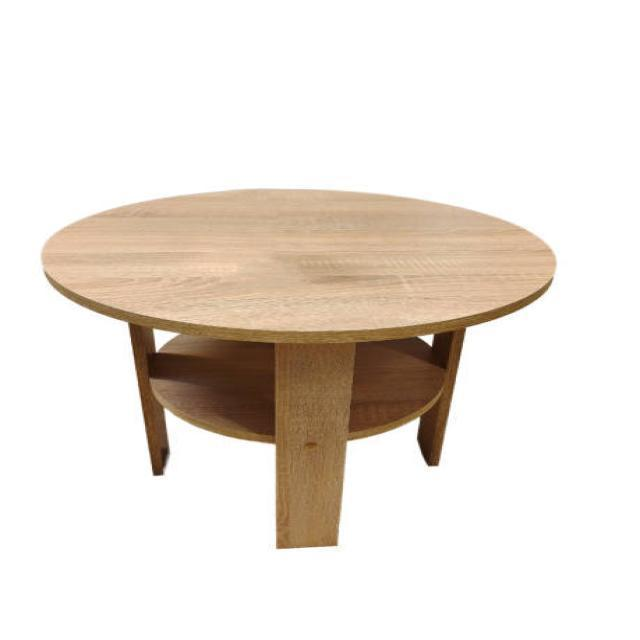table: (39, 186, 556, 549)
